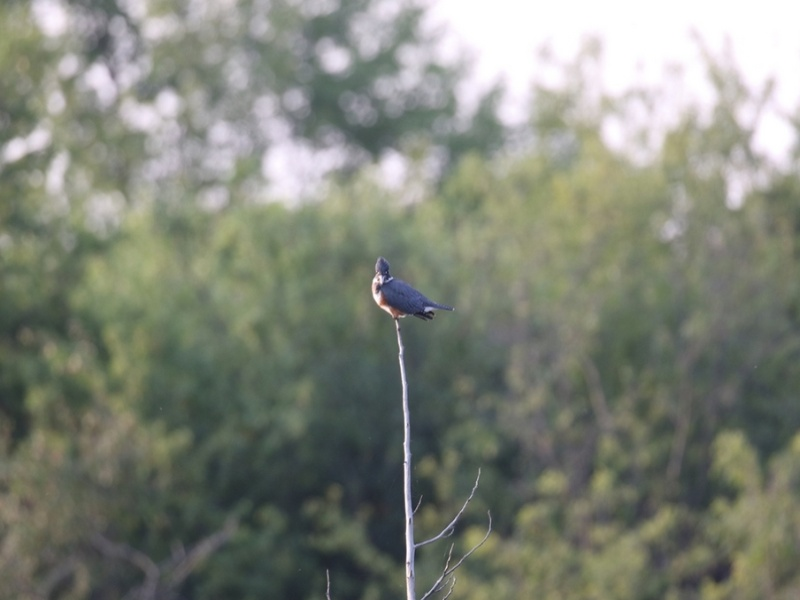kingfisher: (369, 256, 459, 325)
